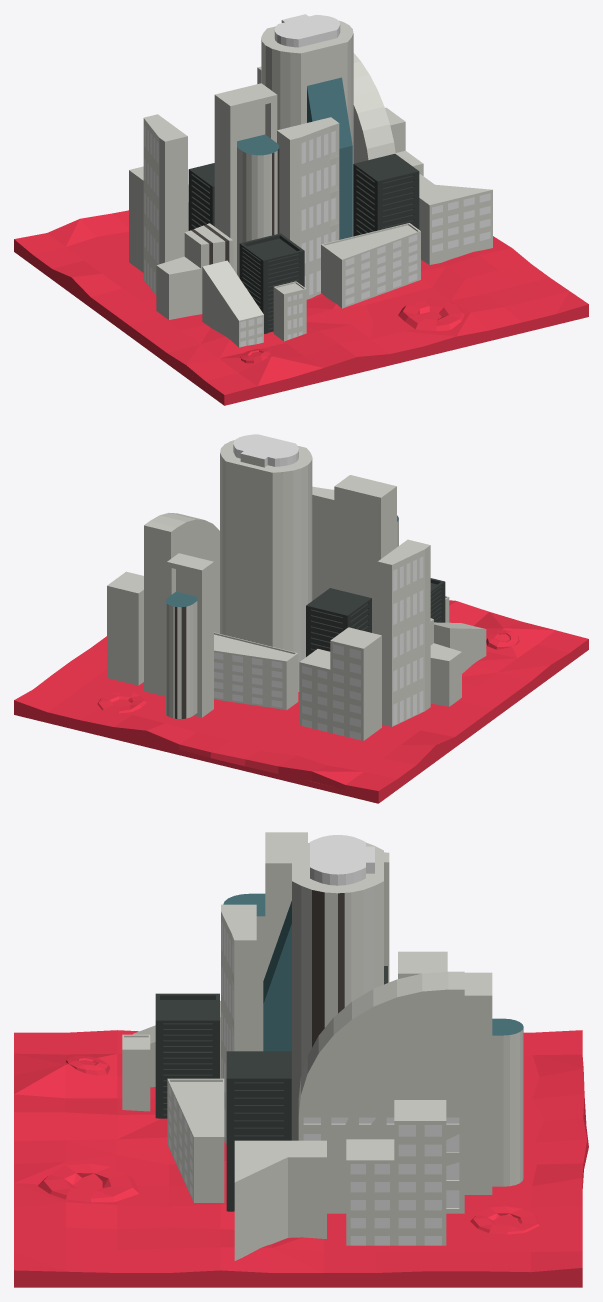
The model's file is Icon_Building_D7.fbx.
3 renders of one model, top to bottom at view 1: azimuth 30°, elevation 25°; view 2: azimuth 150°, elevation 25°; view 3: azimuth 270°, elevation 25°, orthographic. The views are drawn at different scales.
Visible parts, largest first — view 1: Cube.127; view 2: Cube.127; view 3: Cube.127.
Boxes of the visible parts, x1,y1,x2,y2 form: Cube.127: (14, 14, 588, 405); Cube.127: (14, 434, 588, 803); Cube.127: (14, 832, 588, 1287).
Size of the model in its own units: 4000 by 2533 by 4045.
4 materials, 2 textured.
